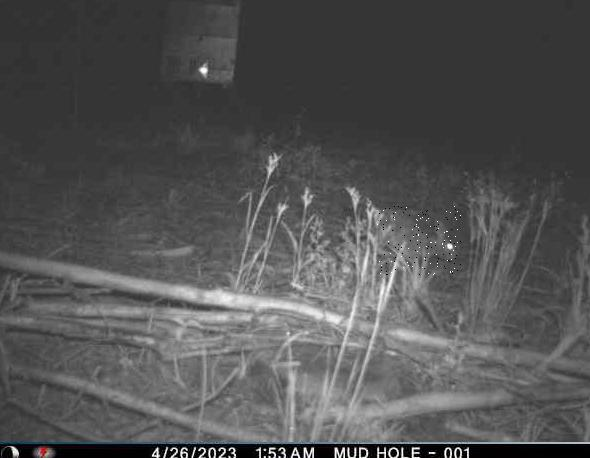Rabbit: (377, 206, 461, 275)
